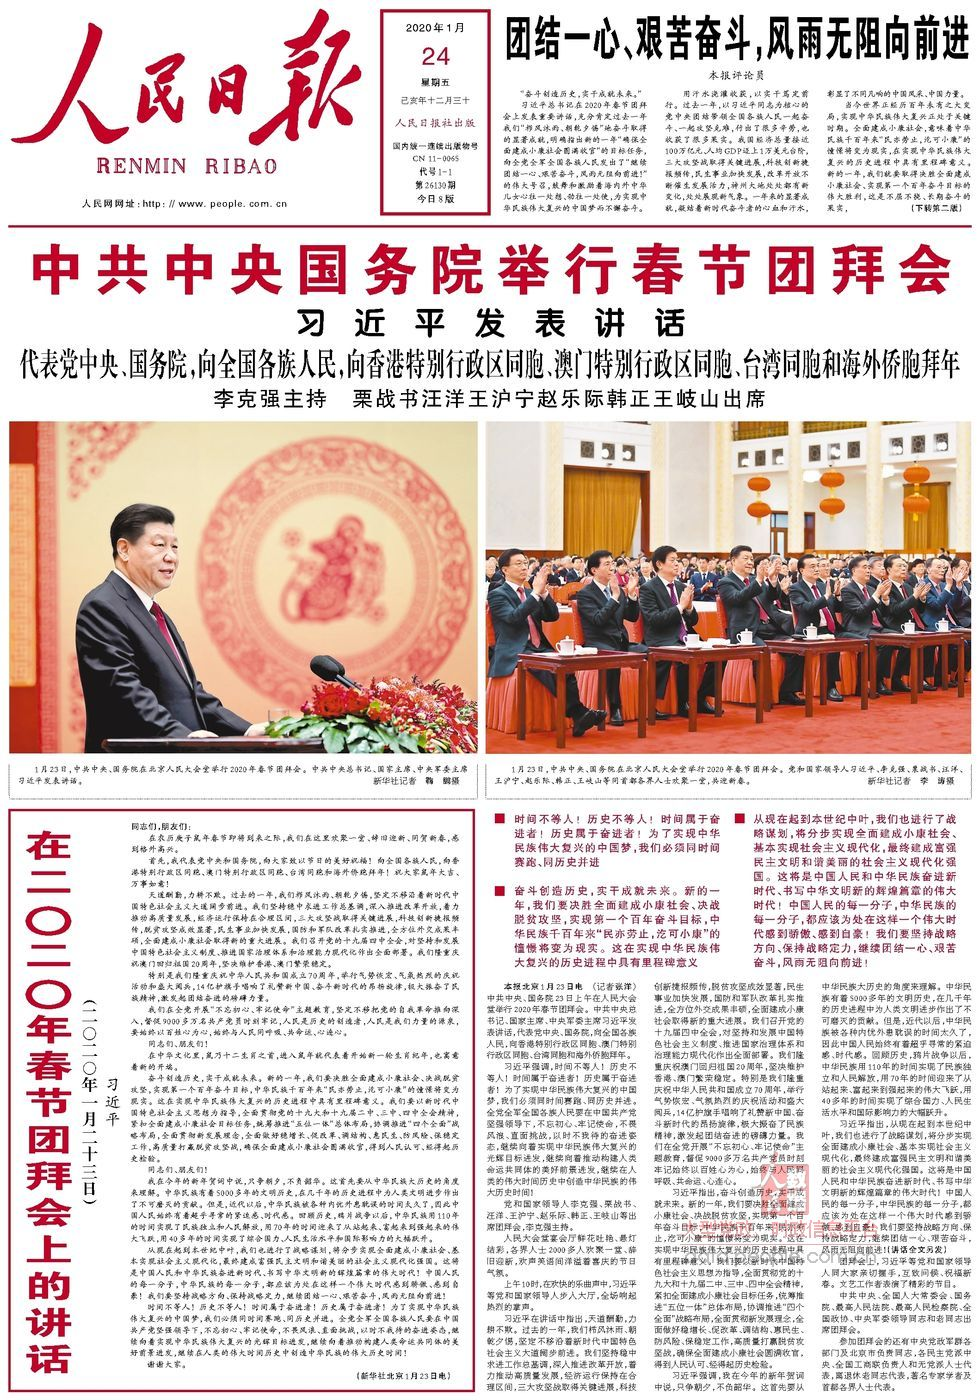pic: (480, 416, 975, 760), (5, 416, 481, 759)
